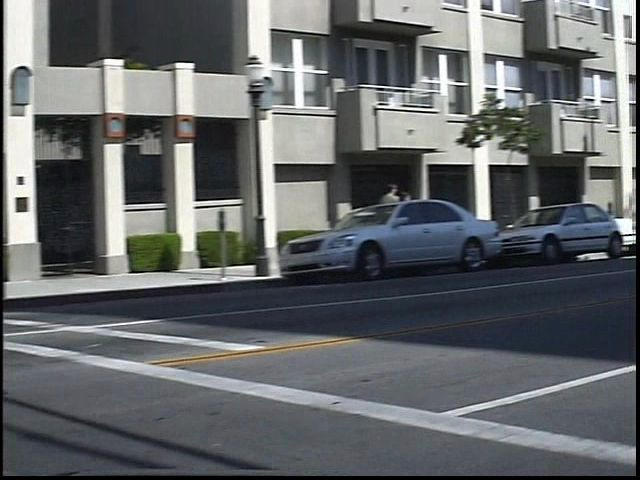person: (392, 179, 416, 254), (410, 187, 431, 249)
